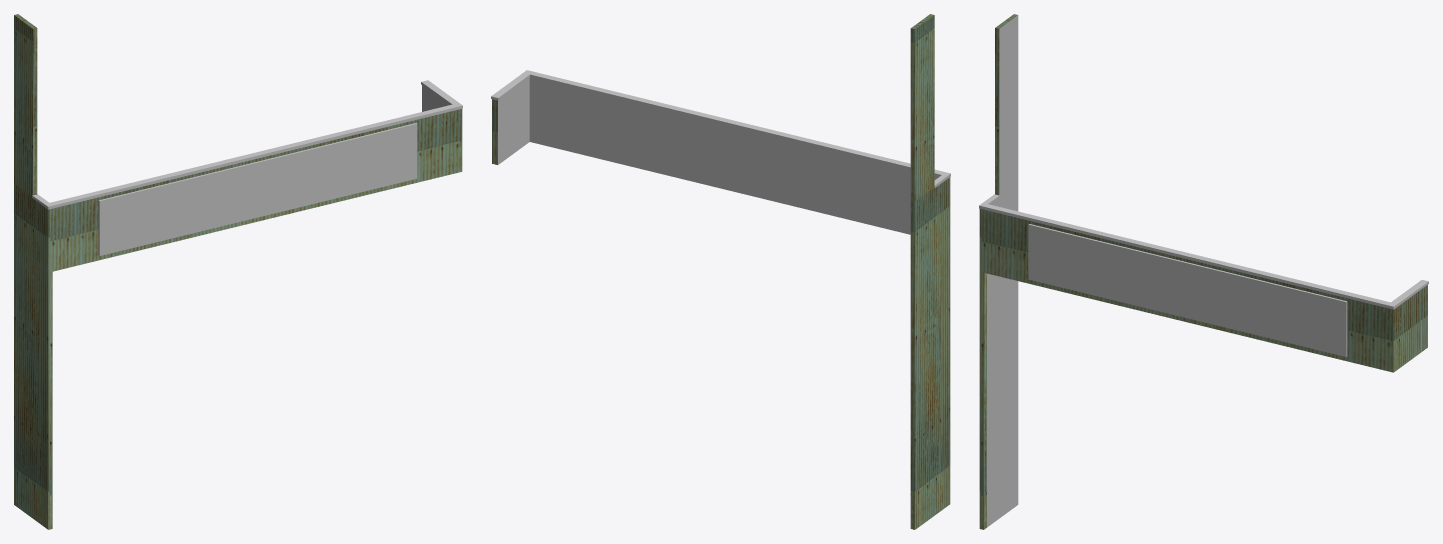
The model's file is ms_h01_sunshade9.fbx.
3 views of the same model, side by side, from view 1: azimuth 30°, elevation 25°; view 2: azimuth 150°, elevation 25°; view 3: azimuth 330°, elevation 25° (orthographic). The views are drawn at different scales.
Parts seen in each view (by area): view 1: ms_h01_sunshade9; view 2: ms_h01_sunshade9; view 3: ms_h01_sunshade9.
Boxes of the visible parts, bbox=[...] form: ms_h01_sunshade9: bbox=[14, 14, 462, 529]; ms_h01_sunshade9: bbox=[491, 14, 950, 529]; ms_h01_sunshade9: bbox=[979, 14, 1428, 529].
Size of the model in its own units: 563 by 634 by 84.29.
